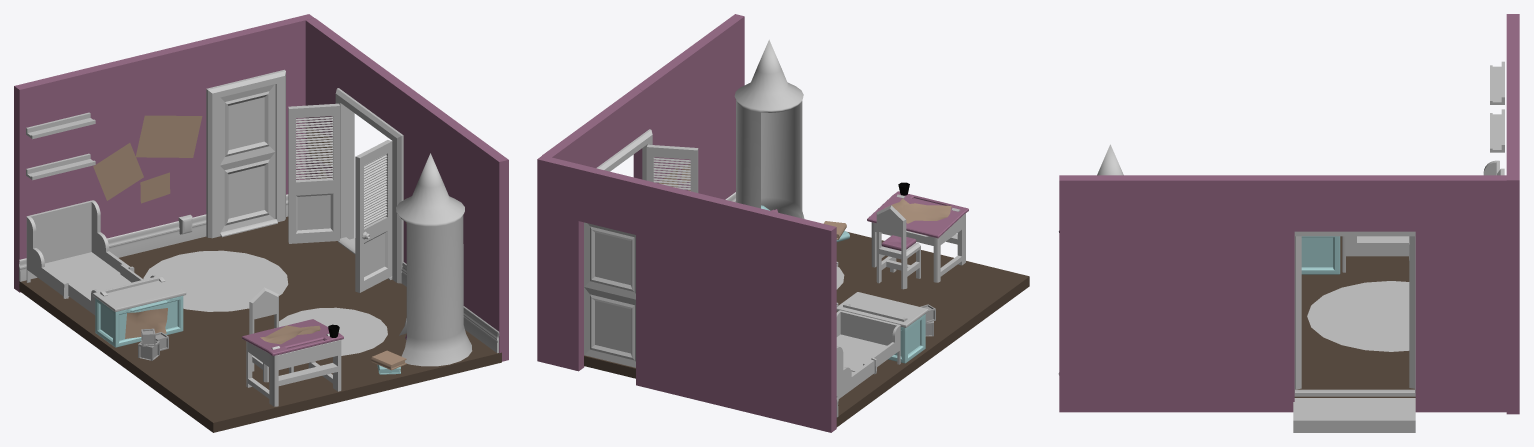
File: BedRoomTest.fbx
The picture shows the model from 3 angles, left to right: view 1: azimuth 30°, elevation 25°; view 2: azimuth 150°, elevation 25°; view 3: azimuth 270°, elevation 25°; orthographic projection. The views are drawn at different scales.
Visible parts, largest first — view 1: Wall1, Floor, Wall2, Tent, Rugs, Bed, Door, WardrobeDoor2, Drawings, WardrobeDoor1, DoorFrame2, Desk (+6 smaller); view 2: Wall1, Wall2, Floor, Tent, Door, Bed, Desk, ToyBox, Chair, WardrobeDoor1, Drawings, DoorFrame1; view 3: Wall2, Floor, Rugs, Wall1, Floor2, DoorFrame1, Bed, ToyBox, WardrobeDoor1, WardrobeDoor2, Shelf1, Shelf2 (+1 smaller).
Part boxes in pixels (x1,y1,x2,y2): Wall1: (14,14,314,292); Floor: (19,216,501,432); Wall2: (305,18,508,361); Tent: (396,153,472,366); Rugs: (143,250,387,355); Bed: (26,200,157,315); Door: (220,84,275,232); WardrobeDoor2: (288,103,339,243); Drawings: (93,115,406,344); WardrobeDoor1: (355,140,392,292); DoorFrame2: (206,69,285,238); Desk: (242,319,343,406); Wall1: (537,155,836,432); Wall2: (542,14,744,199); Floor: (584,232,1029,427); Tent: (734,39,804,218); Door: (584,222,635,367); Bed: (836,310,900,398); Desk: (867,182,968,282); ToyBox: (836,292,928,363); Chair: (876,205,920,289); WardrobeDoor1: (646,144,698,192); Drawings: (659,164,951,223); DoorFrame1: (596,129,652,180); Wall2: (1059,175,1507,412); Floor: (1294,236,1415,397); Rugs: (1307,281,1409,351); Wall1: (1506,14,1519,414); Floor2: (1293,398,1415,432); DoorFrame1: (1294,231,1415,396); Bed: (1342,160,1499,272); ToyBox: (1301,236,1340,274); WardrobeDoor1: (1295,236,1301,389); WardrobeDoor2: (1409,236,1414,388); Shelf1: (1490,109,1504,152); Shelf2: (1490,61,1504,104).
Size of the model in its own units: 17.96 by 10.76 by 18.81.
